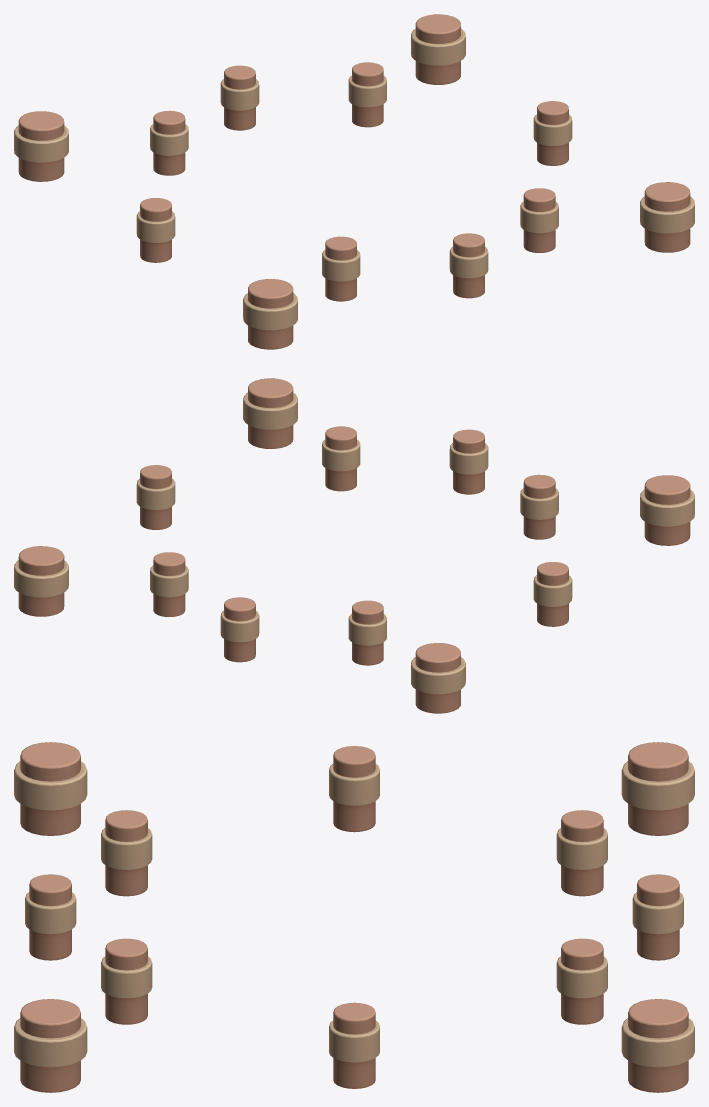
Rendered from Props.fbx.
The picture shows the model from 3 angles, top to bottom: view 1: azimuth 30°, elevation 25°; view 2: azimuth 150°, elevation 25°; view 3: azimuth 270°, elevation 25°; orthographic projection. The views are drawn at different scales.
Parts seen in each view (by area): view 1: Cylinder (2), Cylinder (1), Cylinder, Cylinder (3), Cylinder-2 (1), Cylinder-2 (7), Cylinder-2 (2), Cylinder-2 (5), Cylinder-2 (6), Cylinder-2 (4), Cylinder-2 (3), Cylinder-2; view 2: Cylinder (3), Cylinder, Cylinder (1), Cylinder (2), Cylinder-2, Cylinder-2 (6), Cylinder-2 (3), Cylinder-2 (5), Cylinder-2 (7), Cylinder-2 (4), Cylinder-2 (2), Cylinder-2 (1); view 3: Cylinder, Cylinder (1), Cylinder (2), Cylinder (3), Cylinder-2 (6), Cylinder-2 (7), Cylinder-2 (2), Cylinder-2 (3), Cylinder-2, Cylinder-2 (1), Cylinder-2 (4), Cylinder-2 (5).
Boxes of the visible parts, left/top/right/bottom form: Cylinder (2): left=640, top=182, right=694, bottom=252; Cylinder (1): left=14, top=111, right=68, bottom=181; Cylinder: left=243, top=279, right=297, bottom=349; Cylinder (3): left=411, top=14, right=465, bottom=84; Cylinder-2 (1): left=150, top=110, right=188, bottom=175; Cylinder-2 (7): left=449, top=233, right=488, bottom=298; Cylinder-2 (2): left=520, top=188, right=558, bottom=252; Cylinder-2 (5): left=533, top=101, right=572, bottom=165; Cylinder-2 (6): left=220, top=65, right=259, bottom=130; Cylinder-2 (4): left=136, top=198, right=175, bottom=262; Cylinder-2 (3): left=348, top=62, right=386, bottom=127; Cylinder-2: left=322, top=236, right=360, bottom=301; Cylinder (3): left=14, top=546, right=68, bottom=616; Cylinder: left=640, top=475, right=694, bottom=545; Cylinder (1): left=411, top=643, right=465, bottom=713; Cylinder (2): left=243, top=378, right=297, bottom=448; Cylinder-2: left=520, top=474, right=558, bottom=539; Cylinder-2 (6): left=220, top=597, right=259, bottom=662; Cylinder-2 (3): left=150, top=552, right=188, bottom=616; Cylinder-2 (5): left=136, top=465, right=175, bottom=529; Cylinder-2 (7): left=449, top=429, right=488, bottom=494; Cylinder-2 (4): left=533, top=562, right=572, bottom=626; Cylinder-2 (2): left=322, top=426, right=360, bottom=491; Cylinder-2 (1): left=348, top=600, right=386, bottom=665; Cylinder: left=14, top=742, right=87, bottom=835; Cylinder (1): left=621, top=742, right=694, bottom=835; Cylinder (2): left=14, top=999, right=87, bottom=1092; Cylinder (3): left=621, top=999, right=694, bottom=1092; Cylinder-2 (6): left=632, top=874, right=683, bottom=960; Cylinder-2 (7): left=25, top=874, right=76, bottom=960; Cylinder-2 (2): left=101, top=938, right=152, bottom=1024; Cylinder-2 (3): left=556, top=938, right=607, bottom=1024; Cylinder-2: left=101, top=810, right=152, bottom=896; Cylinder-2 (1): left=556, top=810, right=607, bottom=896; Cylinder-2 (4): left=329, top=746, right=379, bottom=832; Cylinder-2 (5): left=329, top=1002, right=379, bottom=1088.
Size of the model in its own units: 44.82 by 5 by 44.82.
Materials: 1 (1 with a texture image).
